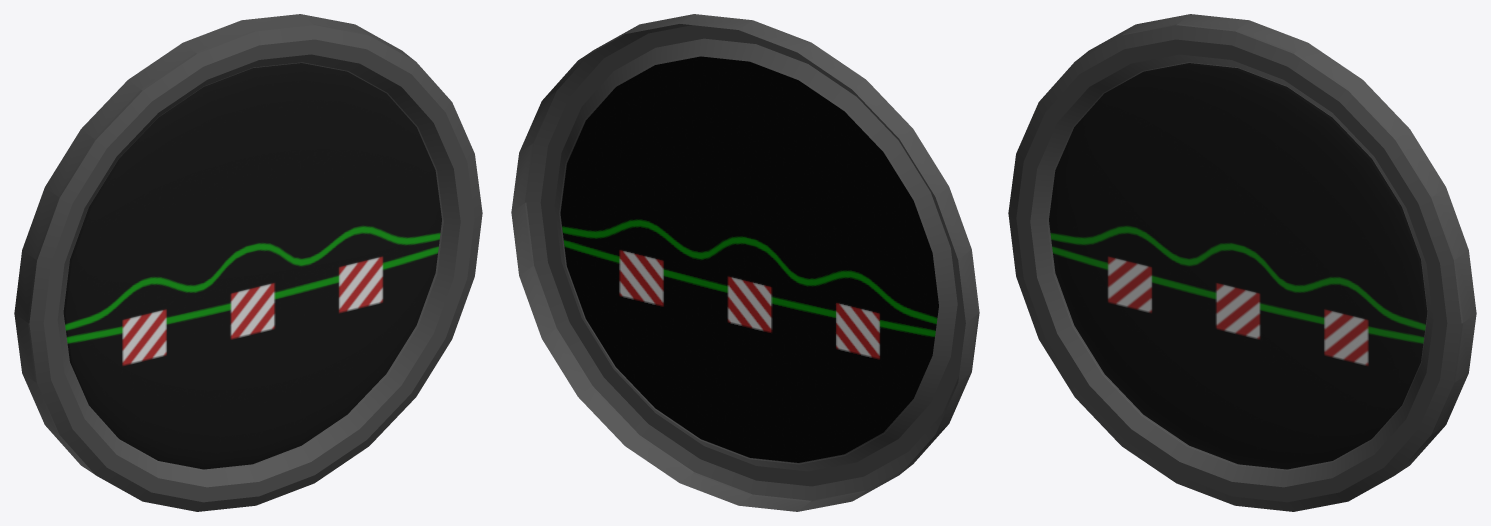
The model's file is Gauge_GreenLines.obj.
3 renders of one model, left to right at view 1: azimuth 30°, elevation 25°; view 2: azimuth 150°, elevation 25°; view 3: azimuth 330°, elevation 25°, orthographic.
Parts seen in each view (by area): view 1: Face, Rim; view 2: Face, Rim; view 3: Face, Rim.
Boxes of the visible parts, x1=… form: Face: x1=63, y1=63, x2=441, y2=469; Rim: x1=14, y1=14, x2=482, y2=511; Face: x1=560, y1=56, x2=938, y2=462; Rim: x1=511, y1=14, x2=979, y2=511; Face: x1=1049, y1=63, x2=1427, y2=469; Rim: x1=1008, y1=14, x2=1476, y2=511.
Bounding box in the file's own units: 0.0822 × 0.0822 × 0.00794.
